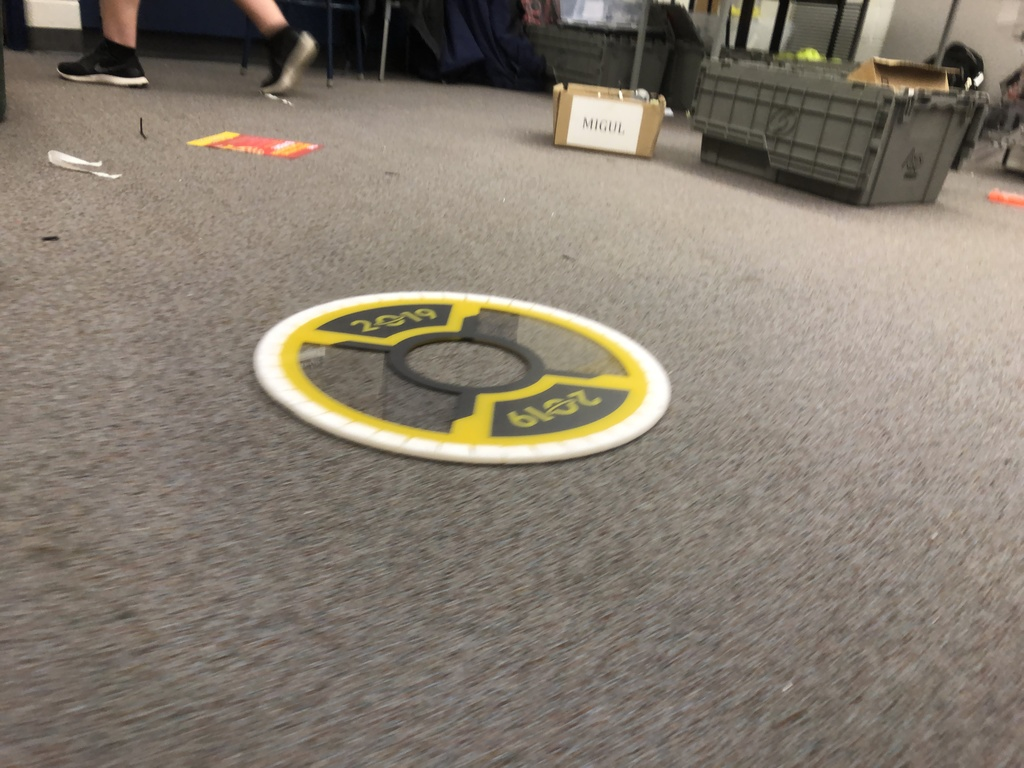hatch_panel: (242, 275, 683, 464)
